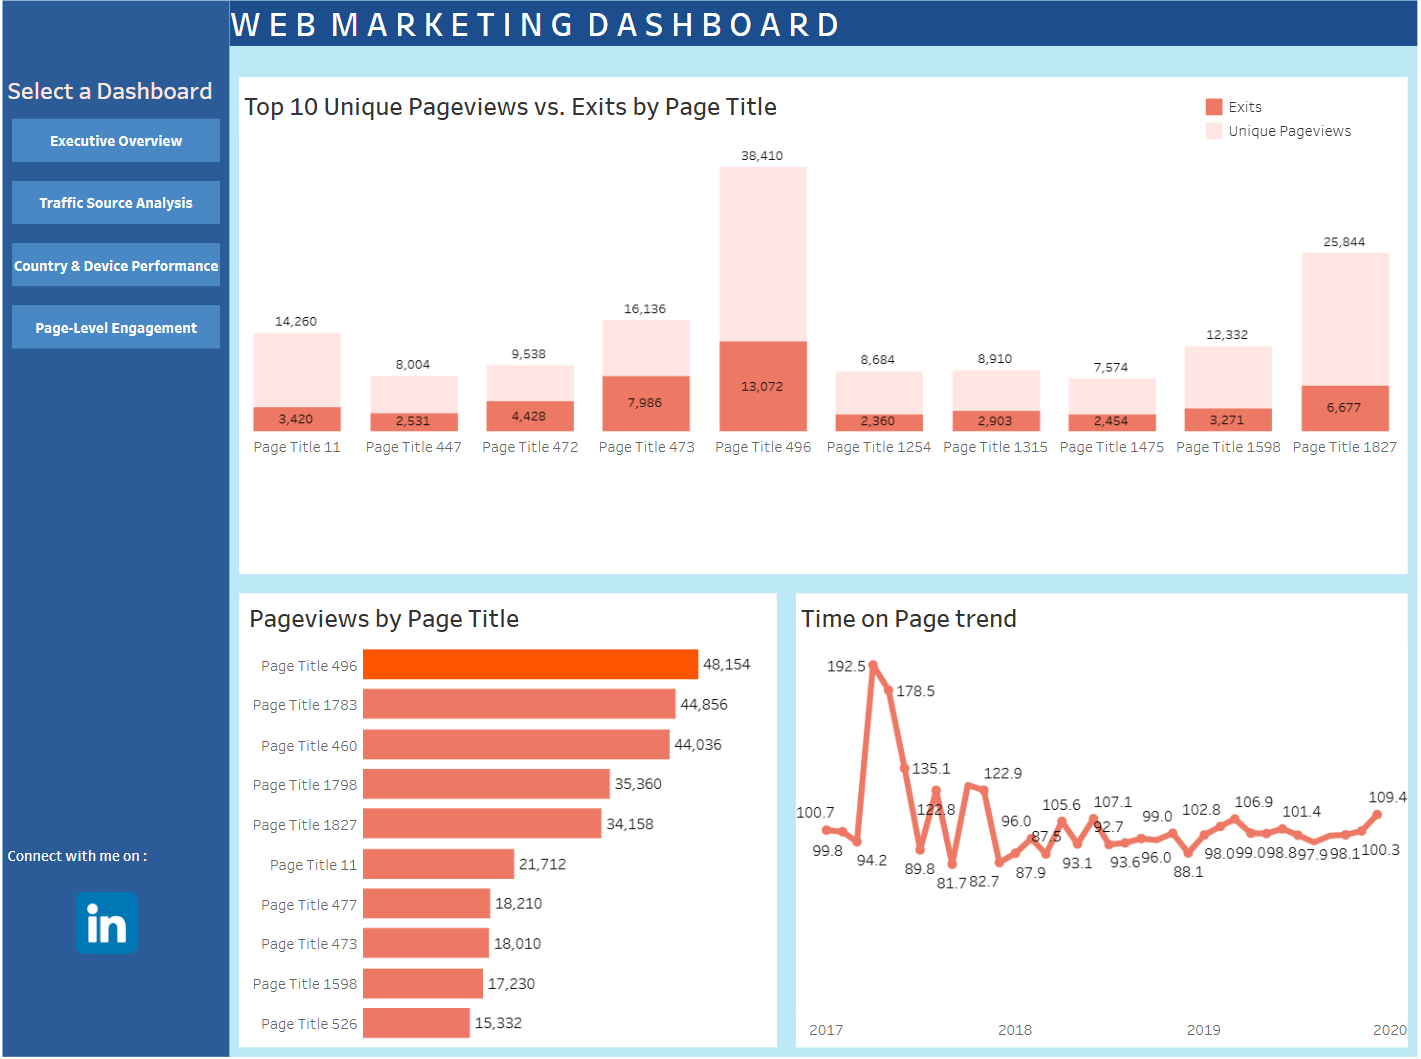

This screenshot's page, from the dashboard's own definition file:
{"tool":"tableau","page":{"name":"Page-Level Engagement","canvas":[1200,900],"ordinal":2},"visuals":[{"type":"blank","box":[8,8,190,56]},{"type":"text","box":[198,8,994,45]},{"type":"text","box":[8,64,190,72]},{"type":"worksheet","title":"Top 10 Unique Pageviews vs. Exits by Page Title","mark":"Bar","rows":["Unique Pageviews","Exits"],"cols":["Page Title"],"box":[206,72,978,416]},{"type":"legend","title":"Top 10 Unique Pageviews vs. Exits by Page Title","param":"[federated.0g6xm690gjbdcr16oj8ww0z68q8a].[:Measure Names]","box":[1012,87,156,48]},{"type":"dashboard-object","box":[8,136,190,52]},{"type":"dashboard-object","box":[8,188,190,52]},{"type":"dashboard-object","box":[8,240,190,52]},{"type":"dashboard-object","box":[8,292,190,52]},{"type":"blank","box":[8,344,190,210]},{"type":"worksheet","title":"Time on Page trend","mark":"Line","rows":["Time on Page"],"cols":["Date"],"box":[664,496,528,396]},{"type":"worksheet","title":"Pageviews by Page Title","mark":"Automatic","rows":["Page Title"],"cols":["Pageviews"],"box":[206,504,450,380]},{"type":"text","box":[8,554,190,338]},{"type":"image","param":"Image/linkedin.png","box":[62,754,65,52]}]}

Visuals, with their boxes in screenshot pixels (x1, y1, x2, y2), scaled from the page's 1200x900 canvas onto the 1421x1059 screenshot:
blank: (9,9,234,75)
text: (234,9,1412,62)
text: (9,75,234,160)
"Top 10 Unique Pageviews vs. Exits by Page Title" worksheet (Bar marks): (244,85,1402,574)
"Top 10 Unique Pageviews vs. Exits by Page Title" legend: (1198,102,1383,159)
dashboard-object: (9,160,234,221)
dashboard-object: (9,221,234,282)
dashboard-object: (9,282,234,344)
dashboard-object: (9,344,234,405)
blank: (9,405,234,652)
"Time on Page trend" worksheet (Line marks): (786,584,1412,1050)
"Pageviews by Page Title" worksheet: (244,593,777,1040)
text: (9,652,234,1050)
image: (73,887,150,948)
